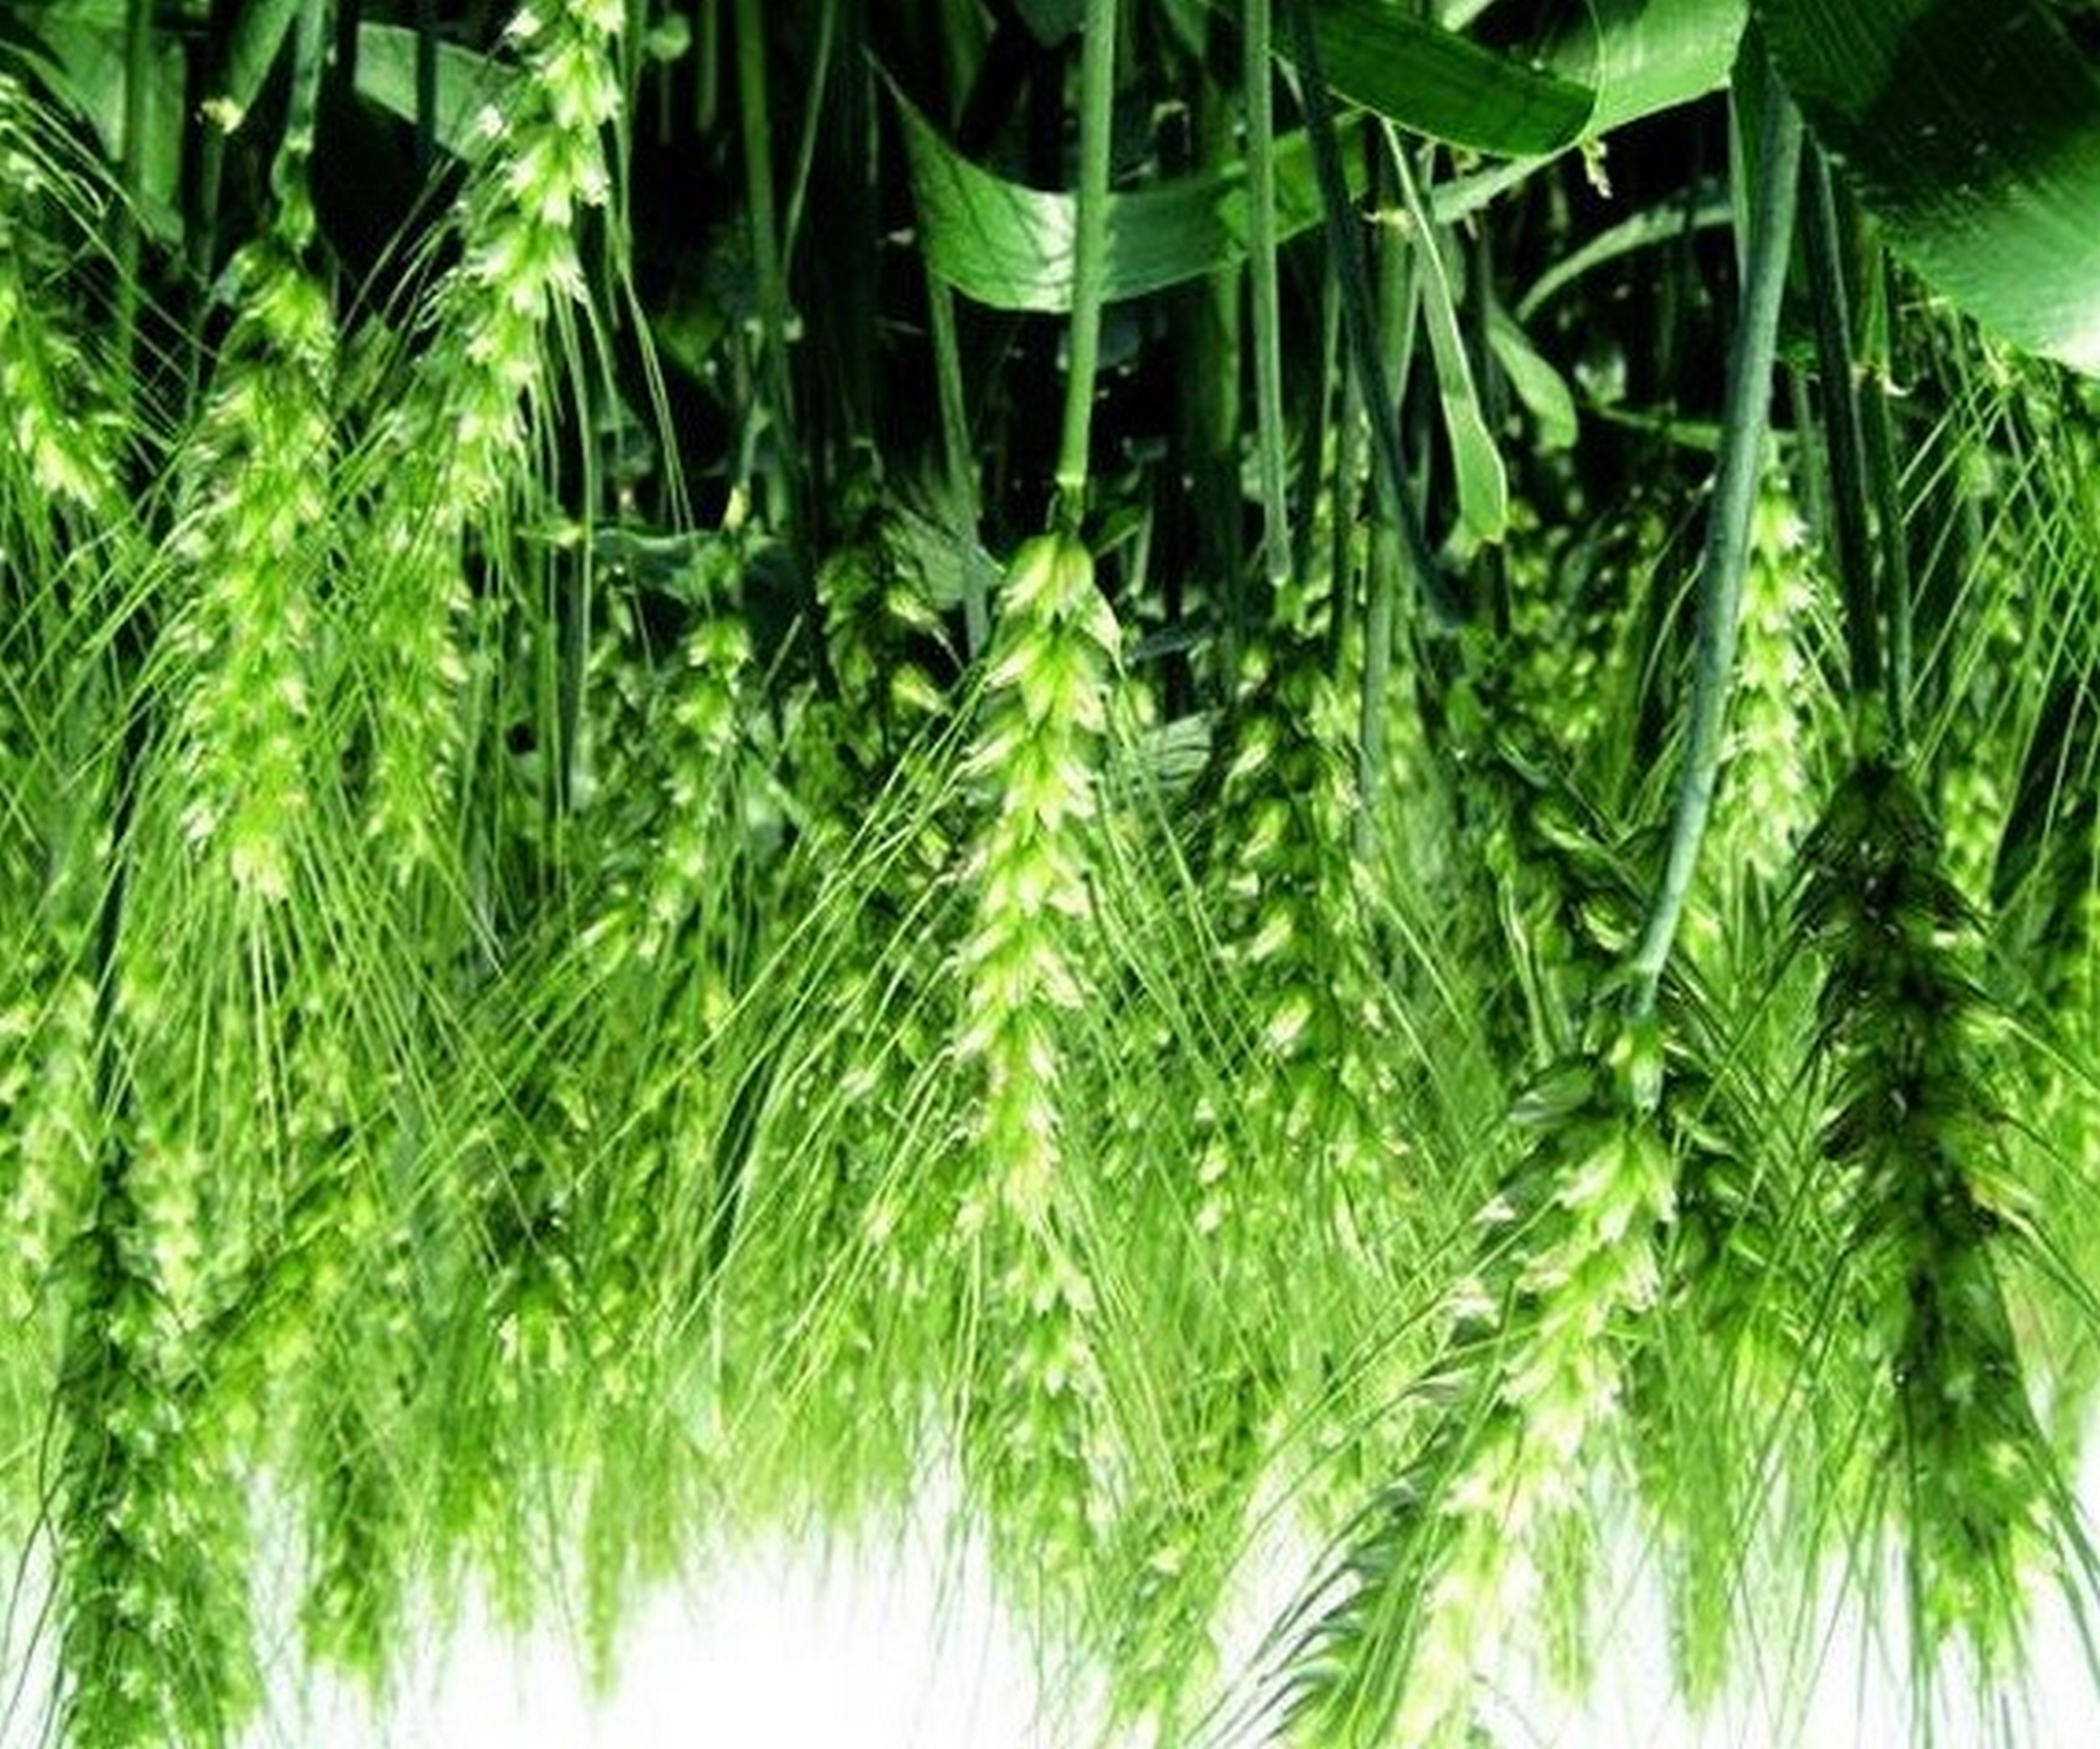Healthy Wheat: (897, 516, 1149, 1212)
